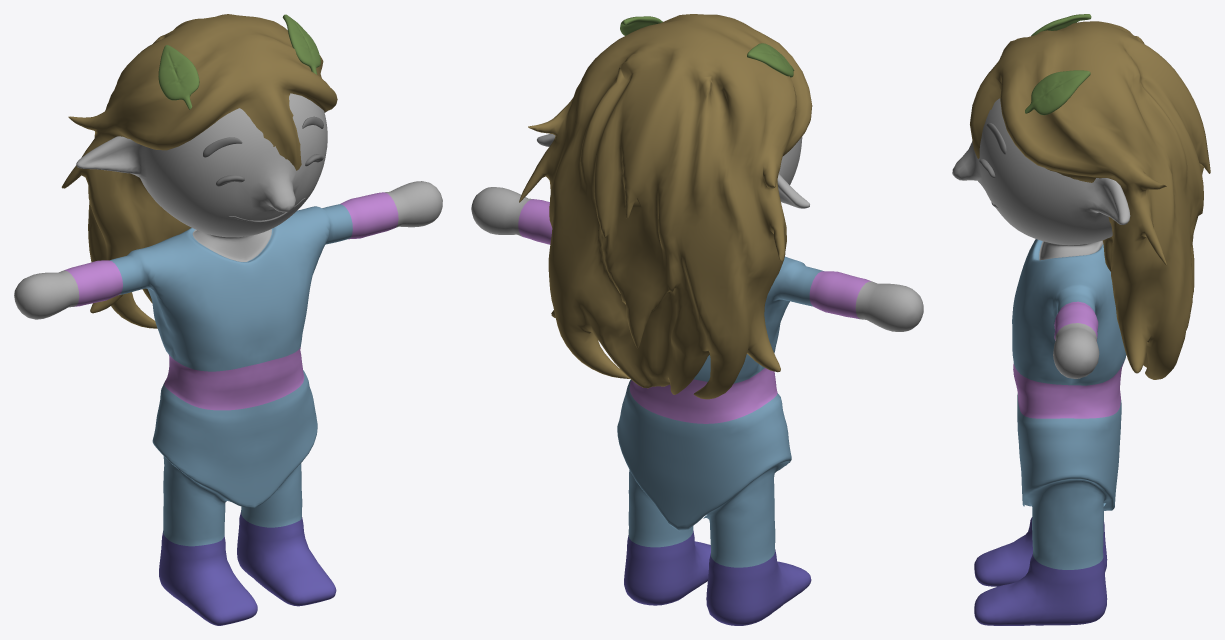
File: NIM_low.fbx
The picture shows the model from 3 angles, left to right: view 1: azimuth 30°, elevation 25°; view 2: azimuth 150°, elevation 25°; view 3: azimuth 270°, elevation 25°; orthographic projection. The views are drawn at different scales.
Visible parts, largest first — view 1: cuerpo, pelo, hoja, face; view 2: pelo, cuerpo, hoja; view 3: cuerpo, pelo, hoja, face.
Part boxes in pixels (<box>): cuerpo: <box>14,93,442,625</box>; pelo: <box>61,14,337,328</box>; hoja: <box>158,14,320,109</box>; face: <box>203,116,323,222</box>; pelo: <box>519,14,812,399</box>; cuerpo: <box>471,133,923,625</box>; hoja: <box>620,16,794,77</box>; cuerpo: <box>952,98,1130,625</box>; pelo: <box>970,21,1210,379</box>; hoja: <box>1025,14,1091,115</box>; face: <box>979,123,1006,207</box>.
Size of the model in its own units: 753 by 942 by 390.
